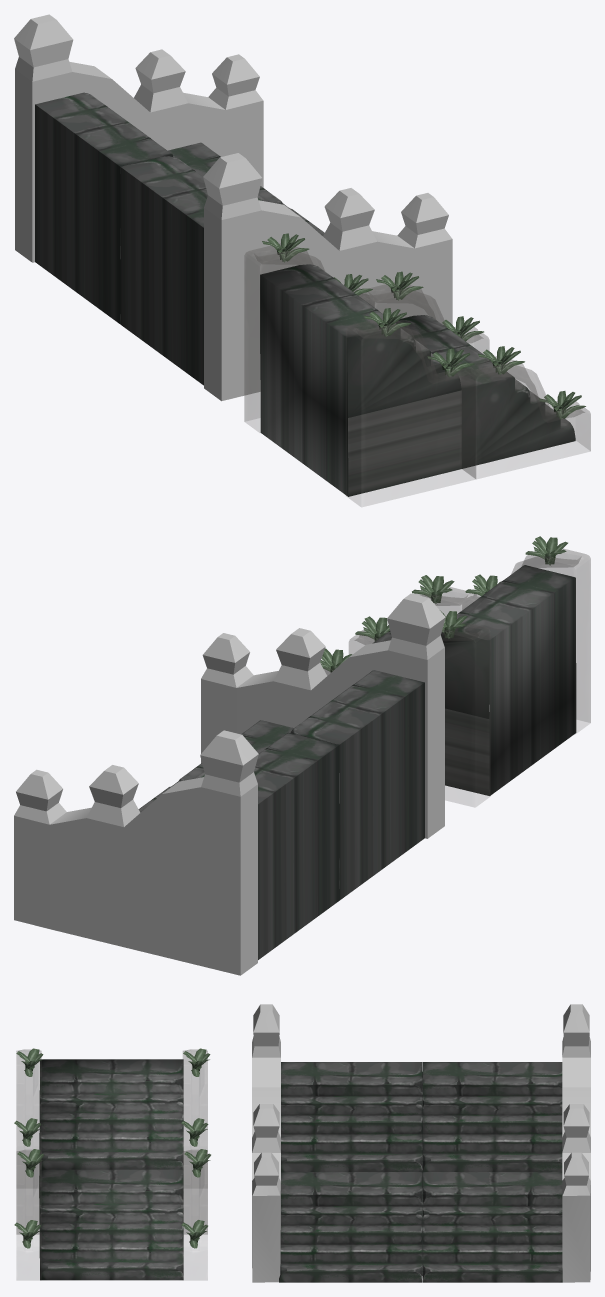
The model's file is Escaleras.fbx.
3 renders of one model, top to bottom at view 1: azimuth 30°, elevation 25°; view 2: azimuth 150°, elevation 25°; view 3: azimuth 270°, elevation 25°, orthographic. The views are drawn at different scales.
Parts seen in each view (by area): view 1: escalera.006, escalera; view 2: escalera.006, escalera; view 3: escalera.006, escalera.
Part boxes in pixels (x1,y1,x2,y2): escalera.006: (14, 14, 452, 401); escalera: (244, 233, 590, 506); escalera.006: (14, 593, 445, 975); escalera: (320, 536, 590, 806); escalera.006: (252, 1004, 590, 1282); escalera: (14, 1048, 210, 1280).
Bounding box in the file's own units: 620 × 585 × 1607.
